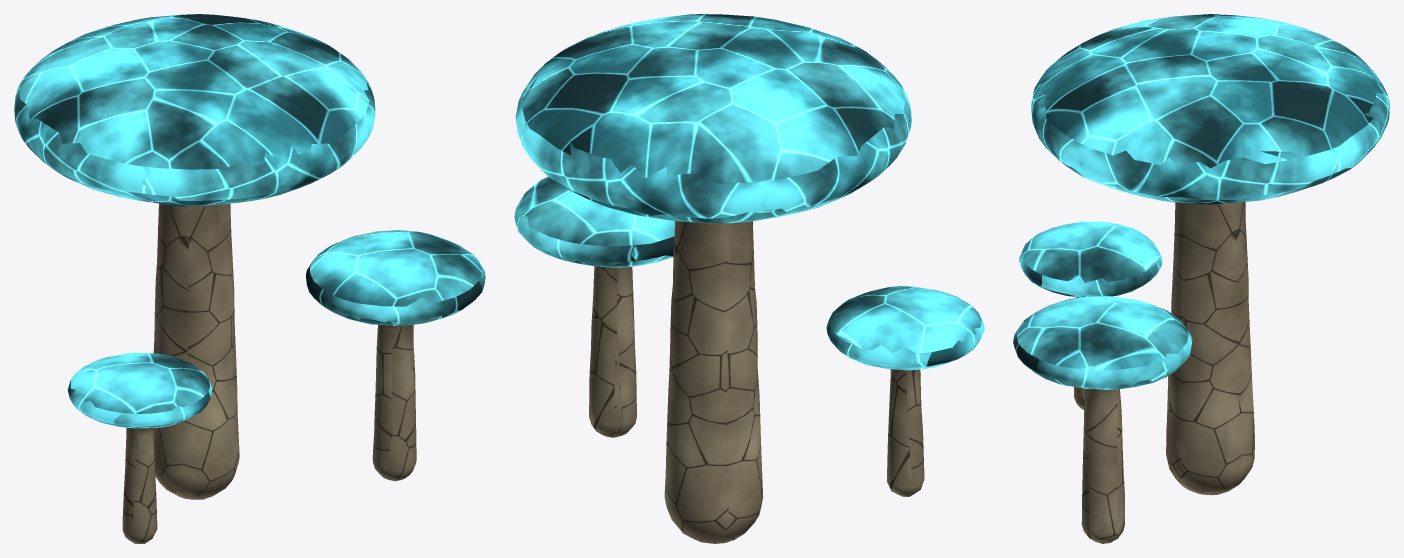
The model's file is glowshroom.glb.
3 renders of one model, left to right at view 1: azimuth 30°, elevation 25°; view 2: azimuth 150°, elevation 25°; view 3: azimuth 270°, elevation 25°, orthographic. The views are drawn at different scales.
Parts seen in each view (by area): view 1: Base; view 2: Base; view 3: Base.
Part boxes in pixels (x1=…): Base: x1=14, y1=14, x2=485, y2=543; Base: x1=514, y1=14, x2=984, y2=543; Base: x1=1013, y1=14, x2=1389, y2=543.
Size of the model in its own units: 0.7691 by 0.8092 by 0.63.
2 materials, 2 textured.
